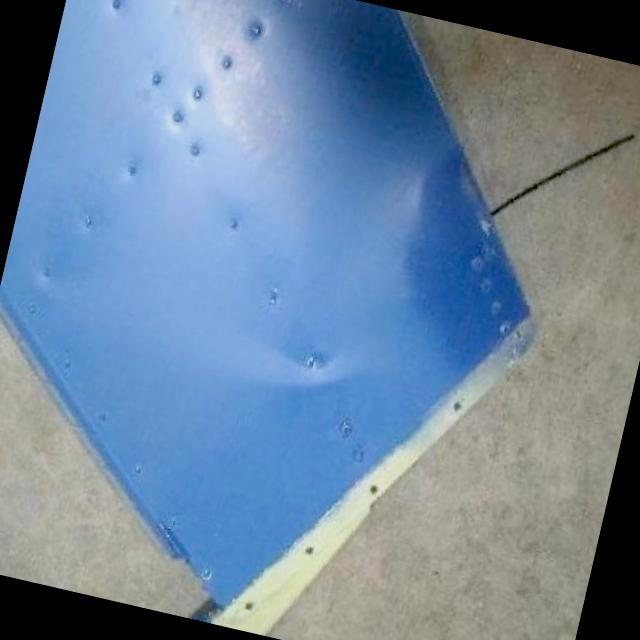dent: (393, 149, 449, 305), (225, 347, 361, 394)
